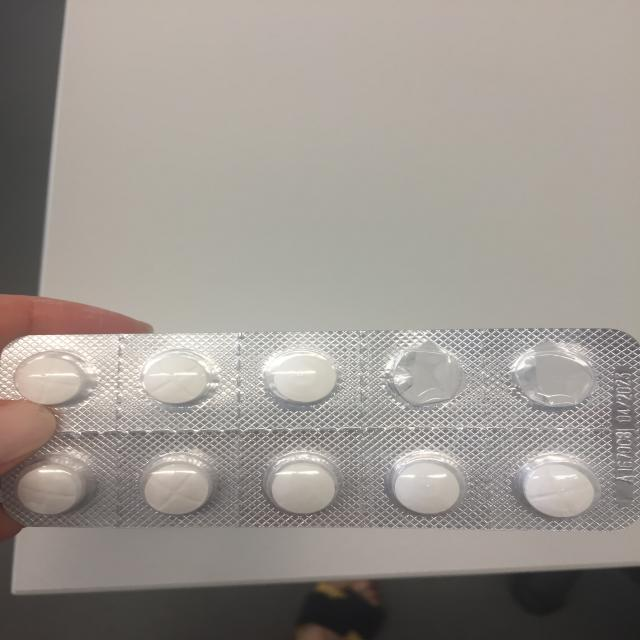Empty: (374, 338, 480, 410), (501, 339, 598, 415)
Pill: (373, 445, 481, 522), (130, 345, 226, 415), (259, 447, 348, 522), (514, 450, 604, 524), (4, 351, 103, 411), (254, 344, 344, 408), (133, 452, 214, 517), (9, 460, 94, 518)
